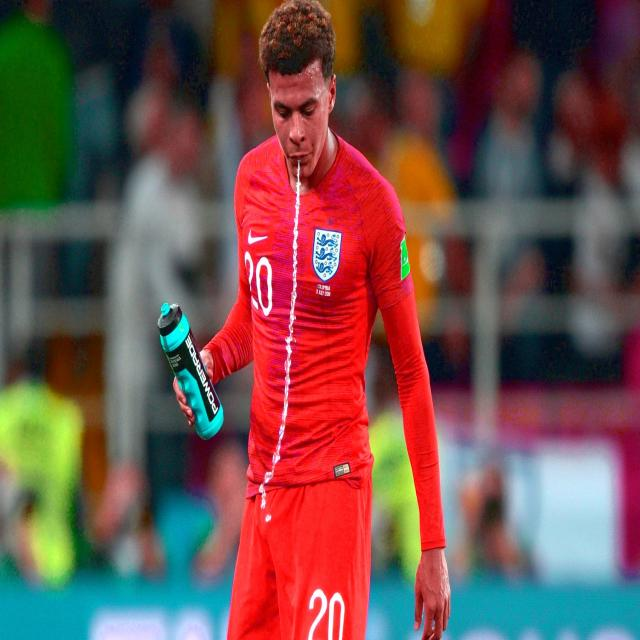Spitting: (250, 0, 351, 265)
